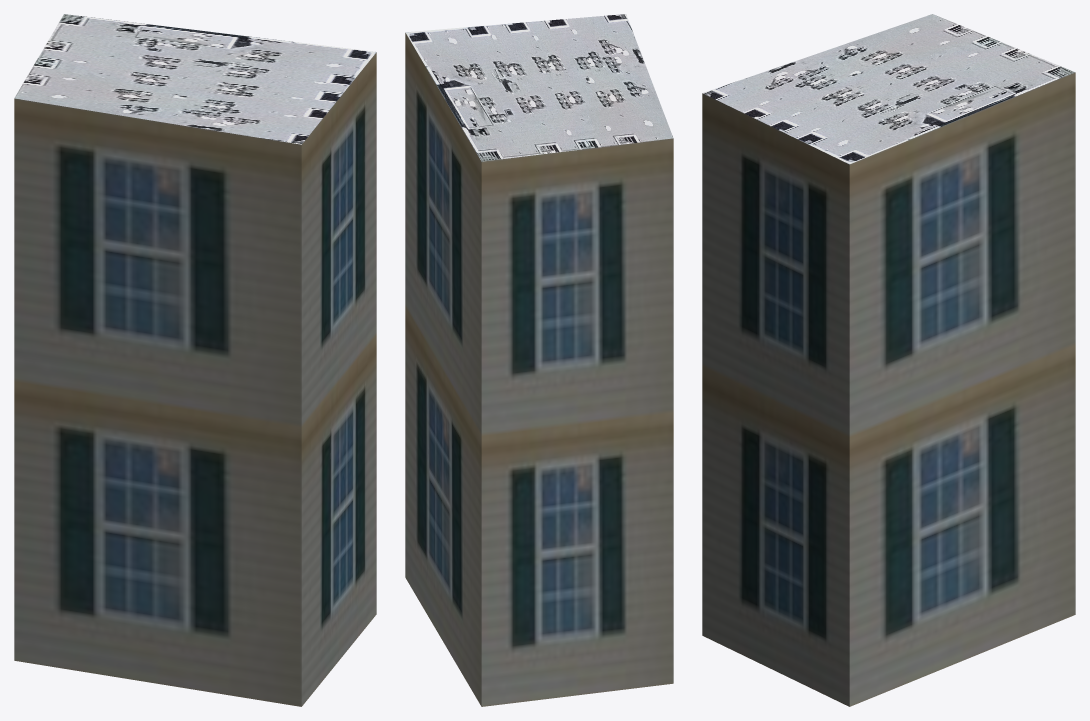
The model's file is ResTex__1560.fbx.
3 views of the same model, side by side, from view 1: azimuth 30°, elevation 25°; view 2: azimuth 150°, elevation 25°; view 3: azimuth 270°, elevation 25° (orthographic). The views are drawn at different scales.
Parts seen in each view (by area): view 1: CityEngineMaterial_7_m, CityEngineMaterial_2_m; view 2: CityEngineMaterial_7_m, CityEngineMaterial_2_m; view 3: CityEngineMaterial_7_m, CityEngineMaterial_2_m.
Boxes of the visible parts, bbox=[...] form: CityEngineMaterial_7_m: bbox=[14, 52, 376, 706]; CityEngineMaterial_2_m: bbox=[14, 14, 376, 144]; CityEngineMaterial_7_m: bbox=[405, 33, 673, 706]; CityEngineMaterial_2_m: bbox=[405, 14, 673, 161]; CityEngineMaterial_7_m: bbox=[702, 72, 1075, 706]; CityEngineMaterial_2_m: bbox=[703, 14, 1074, 164].
Size of the model in its own units: 3.57 by 6 by 3.74.
2 materials, 2 textured.
